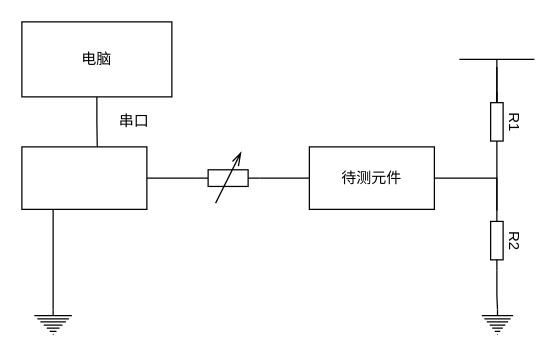
This 556x356 diagram has some shape labels left out. Each missing label, with the centre of its shape:
3.3V: pixel 496 83
ESP32: pixel 84 177
